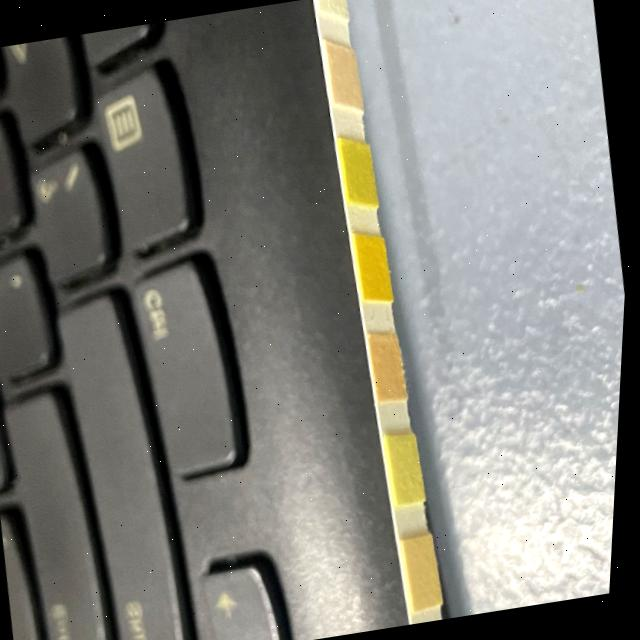Bilirubin: (319, 0, 343, 8)
Blood: (359, 242, 394, 293)
Ketone: (327, 50, 362, 100)
Protein: (396, 443, 428, 500)
SpGravity: (343, 144, 378, 197)
Urobilinogen: (413, 546, 447, 602)
pH: (373, 339, 407, 392)
